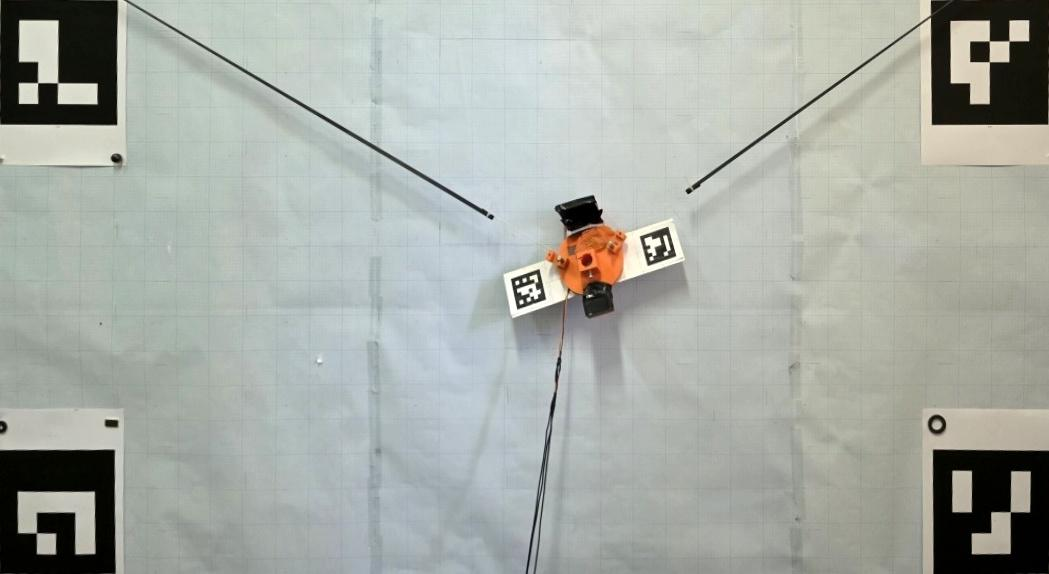robot: (545, 195, 627, 318)
